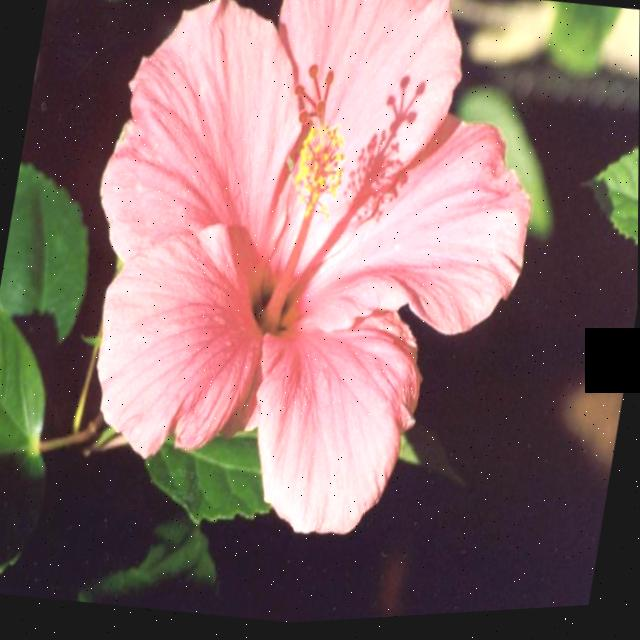hibiscus: (3, 0, 624, 611)
